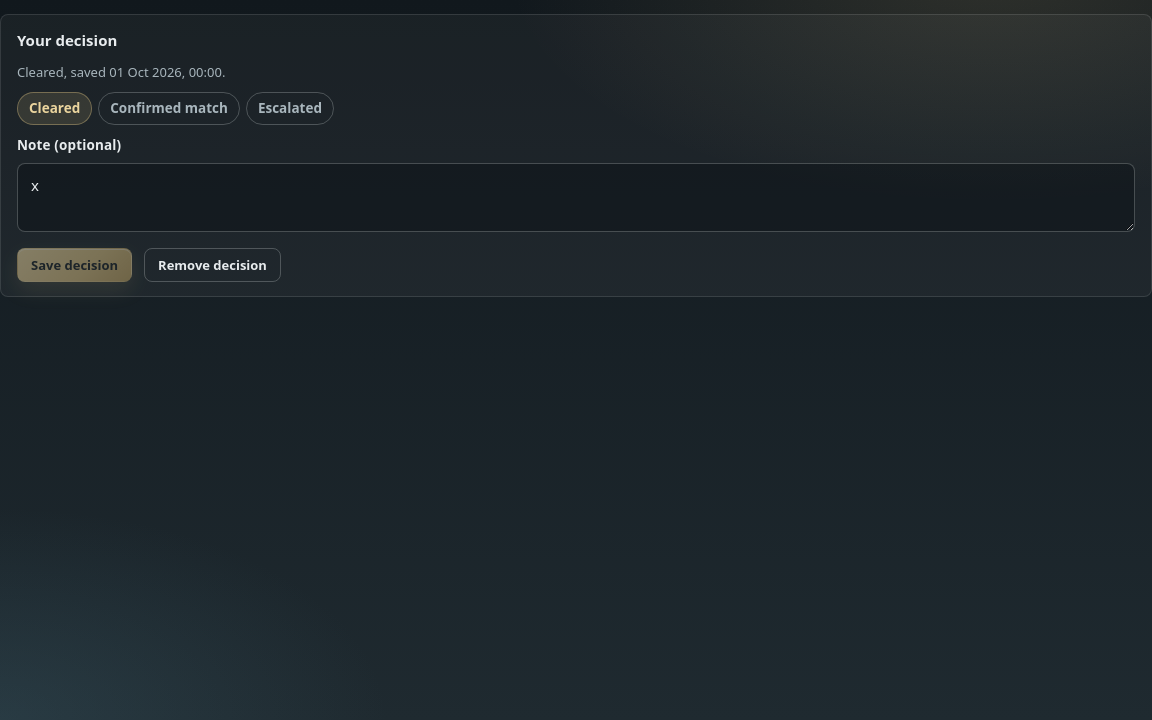
it: review decision › can remove a saved decision
Click the button "Remove decision".
click(213, 265)  # box top-left (144, 248), bottom-right (281, 282)
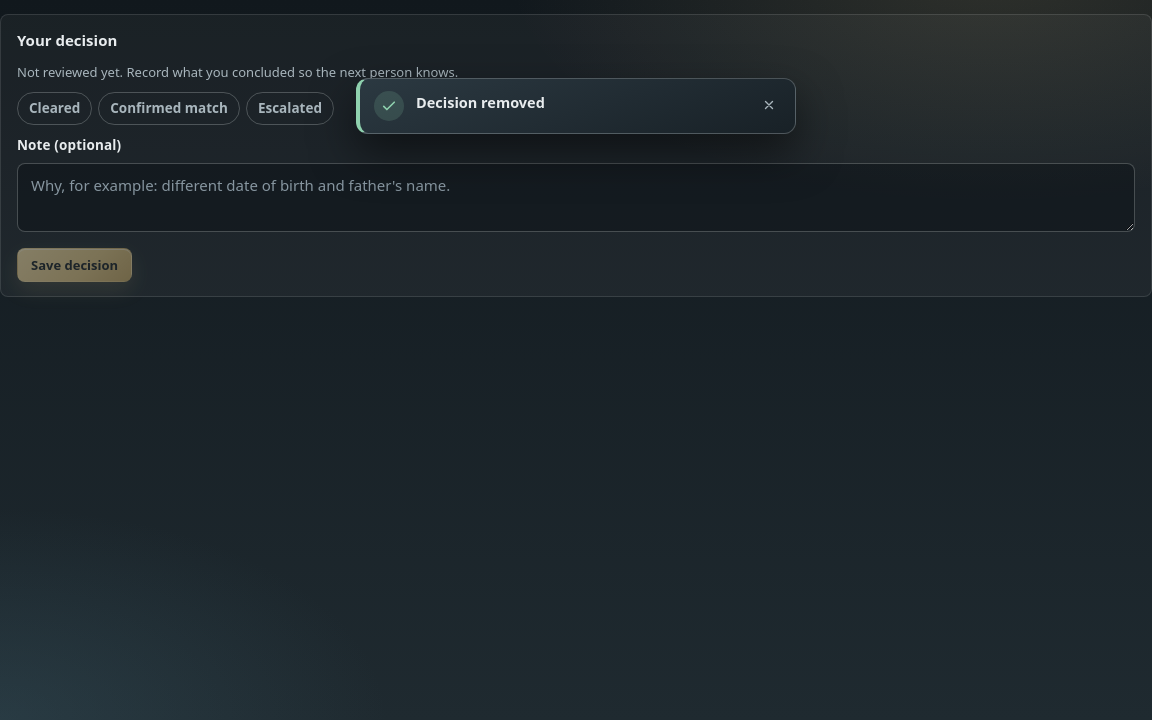
Expected: the text "Not reviewed yet" is shown, top-left (17, 63), bottom-right (458, 81)
